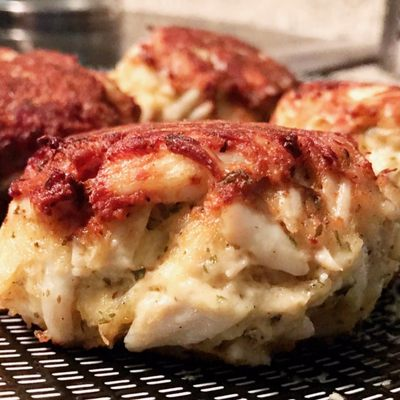sandwich: (1, 118, 399, 361)
